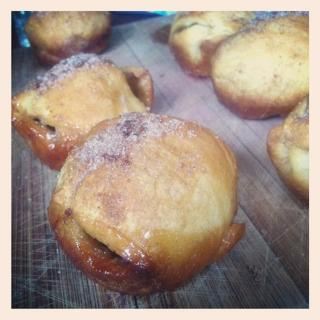Bread: (53, 118, 237, 290), (9, 55, 153, 166), (211, 10, 310, 120), (166, 9, 257, 76), (266, 94, 311, 200), (26, 10, 112, 62)
Muffin: (50, 110, 238, 300), (9, 51, 153, 174), (208, 10, 310, 119), (167, 9, 259, 78), (24, 7, 110, 68), (264, 93, 312, 200)
